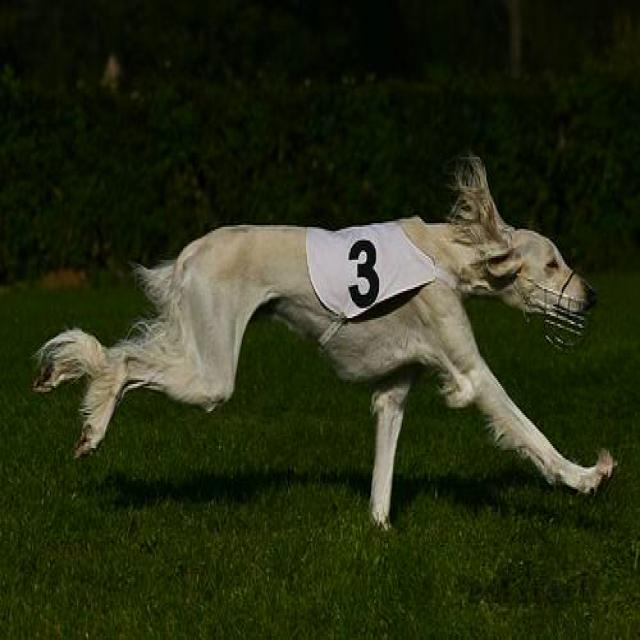saluki: (36, 150, 620, 536)
